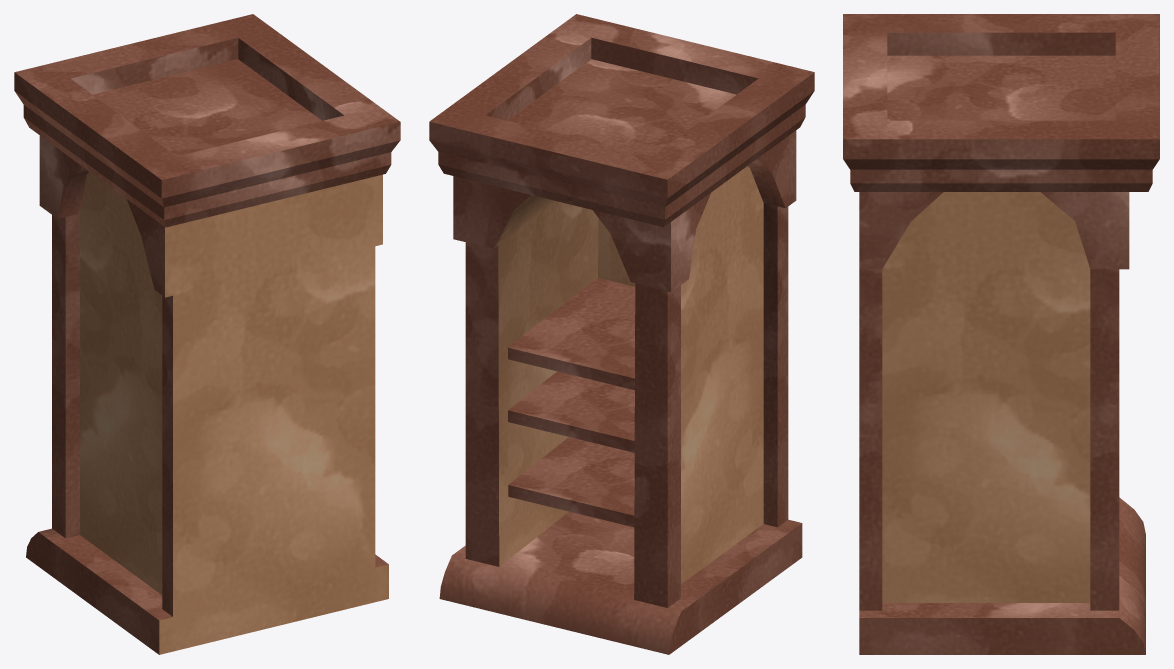
The model's file is SM_Open_Library.fbx.
3 views of the same model, side by side, from view 1: azimuth 30°, elevation 25°; view 2: azimuth 150°, elevation 25°; view 3: azimuth 270°, elevation 25° (orthographic). The views are drawn at different scales.
Parts seen in each view (by area): view 1: SM_Open_Library; view 2: SM_Open_Library; view 3: SM_Open_Library.
Part boxes in pixels (x1,y1,x2,y2): SM_Open_Library: [14, 14, 400, 654]; SM_Open_Library: [429, 14, 814, 654]; SM_Open_Library: [843, 14, 1159, 654].
Bounding box in the file's own units: 103 × 199 × 111.
1 material, 1 textured.
